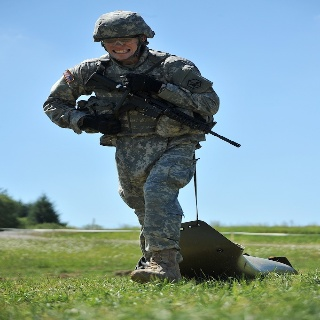rifle: (83, 70, 243, 151)
